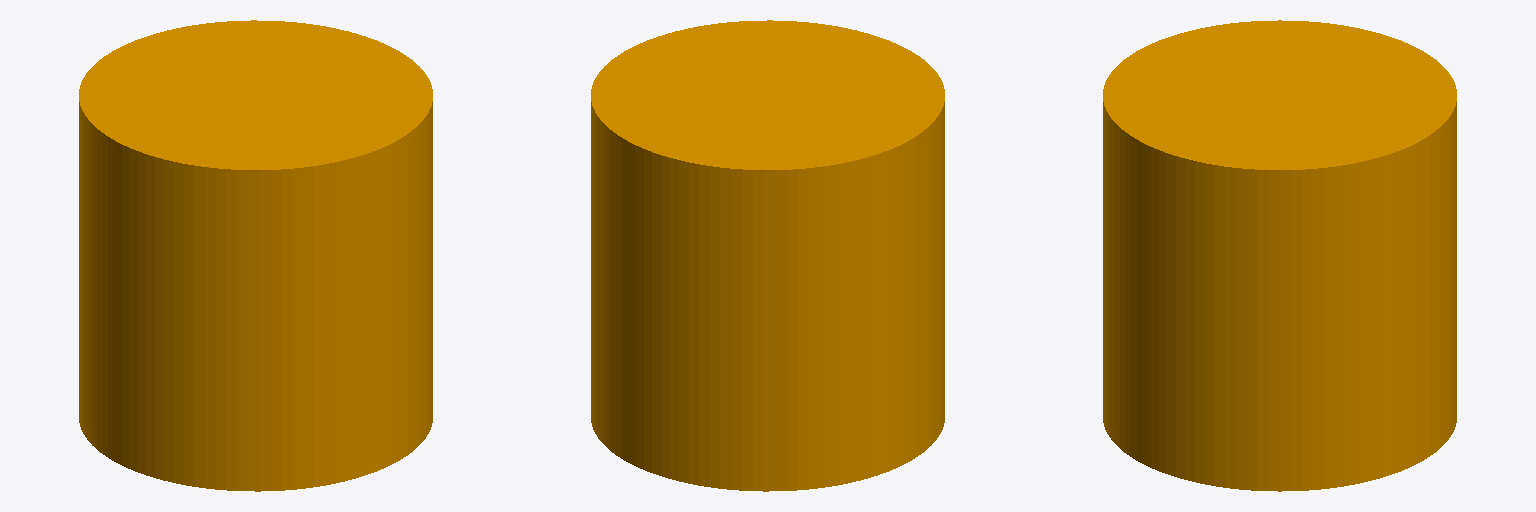
robot.urdf — object:
<?xml version="1.0"?>
<robot name="object">
  <link name="object">
    <visual>
      <origin xyz="0 0 0"/>
      <geometry>
        <mesh filename="package://object_datasets/3DPrintedShapes/meshes/cylinder.dae"/>
      </geometry>
    </visual>
    <collision>
      <origin xyz="0 0 0"/>
      <geometry>
        <mesh filename="package://object_datasets/3DPrintedShapes/meshes/cylinder.obj"/>
      </geometry>
    </collision>
    <inertial>
      <mass value="0.100"/>
      <inertia ixx="0.01" ixy="0.00" ixz="0.00" iyy="0.01" iyz="0.0" izz="0.01"/>
      <!-- inertia is recomputed when laoding asset  -->
    </inertial>
  </link>
</robot>

--- Facts derived from the render (not from the file) ---
Views: 3 orthographic renders of the robot side by side, from view 1: azimuth 30°, elevation 25°; view 2: azimuth 150°, elevation 25°; view 3: azimuth 270°, elevation 25°.
Model object with 1 links and 0 joints (none), rooted at object, posed all joints at 0.
Visible links, largest first — view 1: object; view 2: object; view 3: object.
Link boxes in pixels (box(x1,y1,x2,y2)): object: box(79, 20, 432, 491); object: box(591, 20, 944, 491); object: box(1103, 20, 1456, 491).
Size in the robot's own frame: 0.1 by 0.1 by 0.1 metres.
Meshes: 1 distinct files referenced, 1 mesh visuals loaded (1 Collada DAE).
